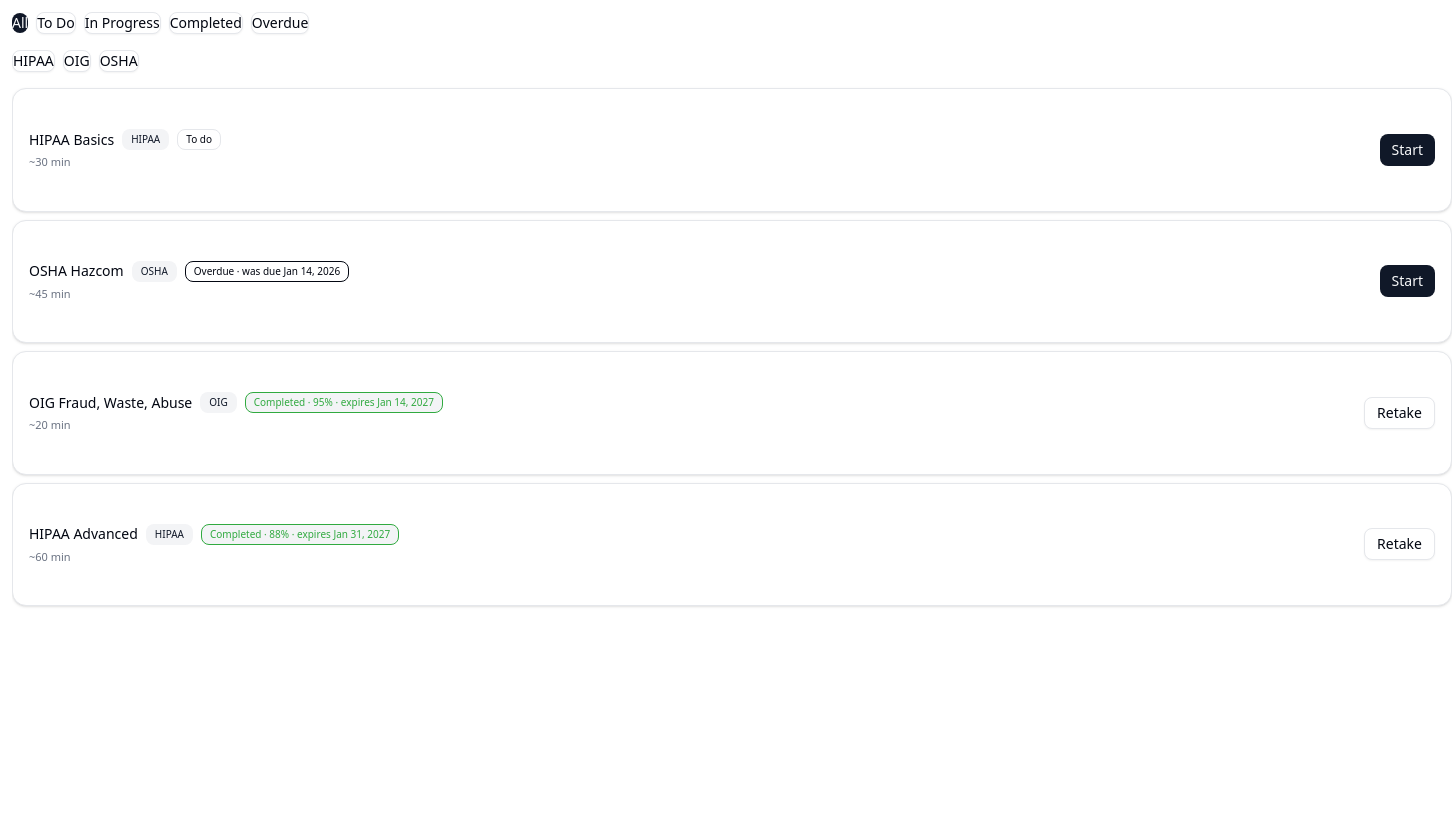
Test: <MyTrainingTab> › filters by status (Completed) and surfaces aria-pressed
Click the button "Completed" at [206, 23], box x1=169 y1=12 x2=243 y2=34
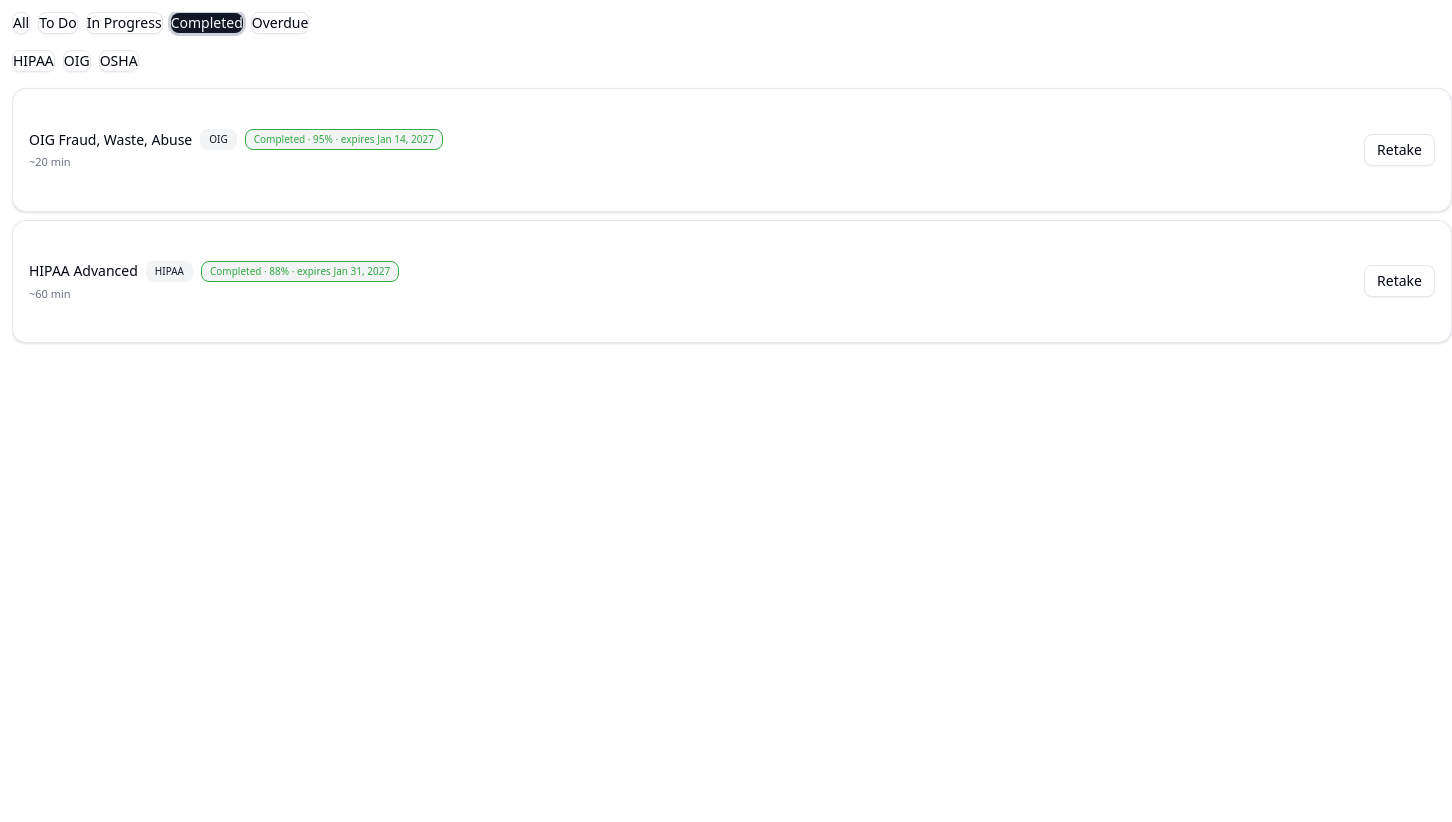
Expected: the text "OIG Fraud, Waste, Abuse" is shown, x1=29 y1=130 x2=192 y2=150
Result: the text "HIPAA Basics" is gone
